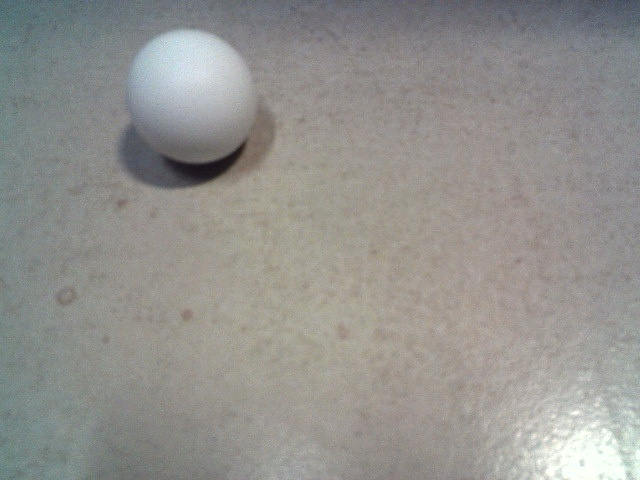pingpong: (124, 29, 257, 163)
